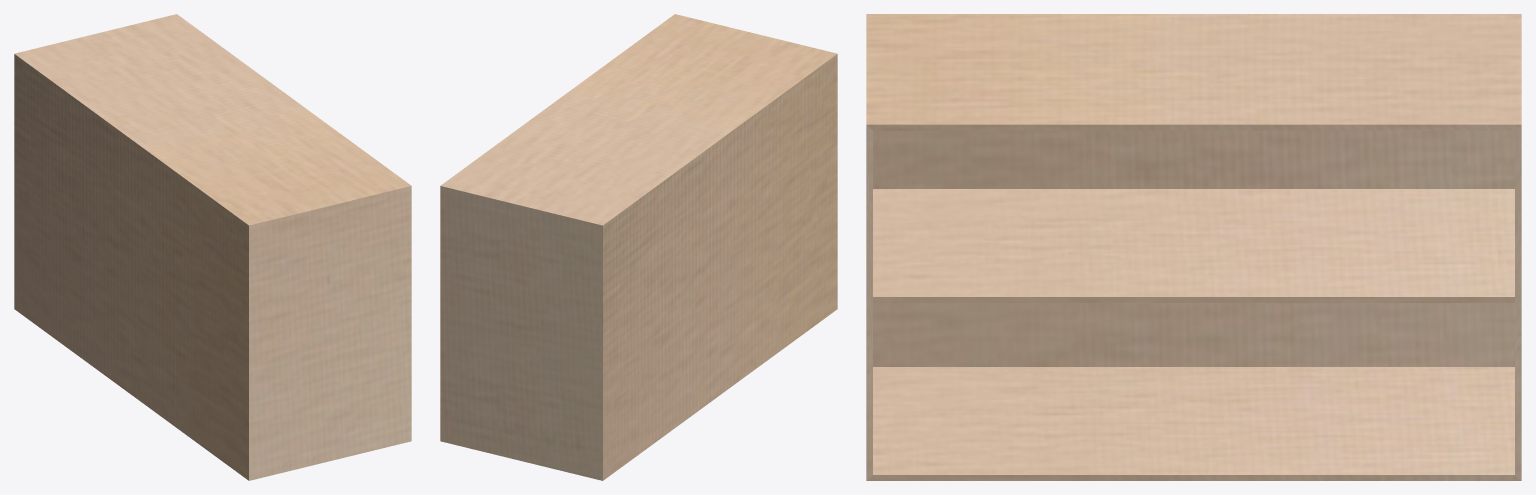
File: cupboardBody.gltf
3 renders of one model, left to right at view 1: azimuth 30°, elevation 25°; view 2: azimuth 150°, elevation 25°; view 3: azimuth 270°, elevation 25°, orthographic. The views are drawn at different scales.
Parts seen in each view (by area): view 1: Plane; view 2: Plane; view 3: Plane.
Part boxes in pixels (x1,y1,x2,y2): Plane: (14,14,411,480); Plane: (440,14,837,480); Plane: (866,14,1521,480).
Size of the model in its own units: 2.72 by 4.08 by 6.79.
1 material, 1 textured.
